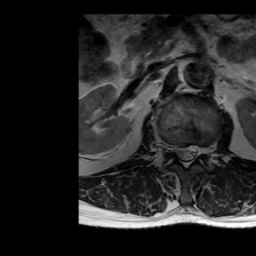CCS_normal: (182, 135, 190, 176)
LFS_normal: (199, 136, 208, 161)
LLS_normal: (190, 135, 199, 169)
RFS_normal: (165, 134, 174, 160)
RLS_normal: (174, 136, 182, 167)
